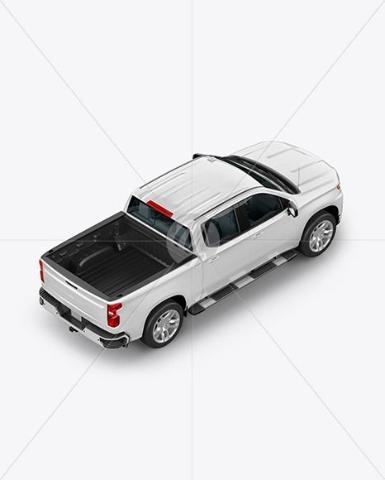pickup-truck: (28, 139, 346, 366)
